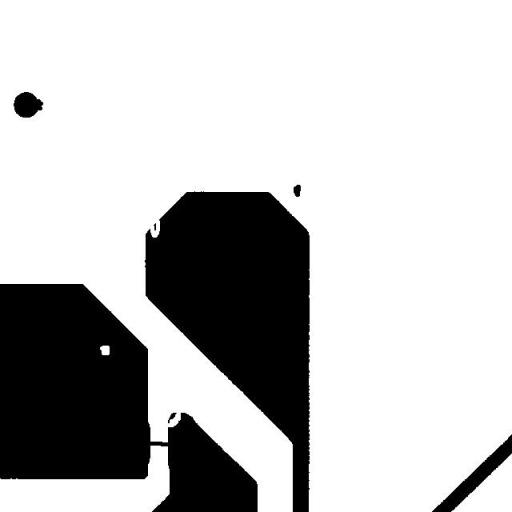copper: (286, 177, 308, 204)
mousebite: (142, 208, 167, 245)
open: (156, 404, 188, 434)
pin-hole: (92, 338, 117, 362)
short: (141, 434, 179, 454)
spur: (25, 91, 50, 118)
